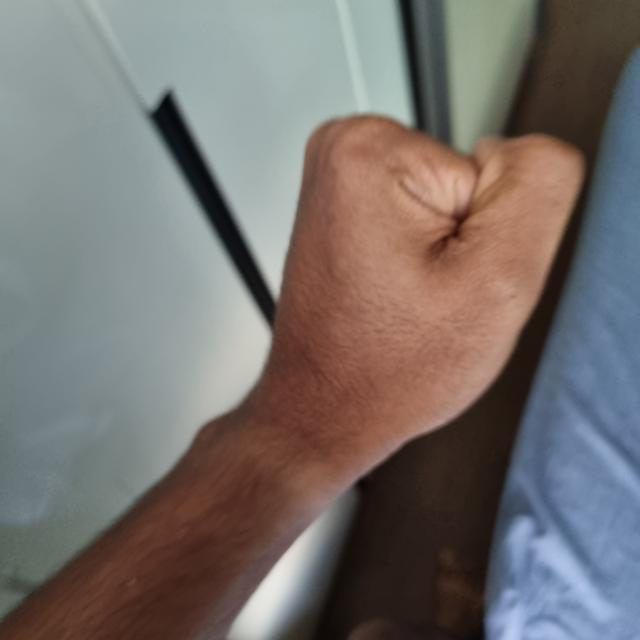Rock: (255, 115, 587, 468)
